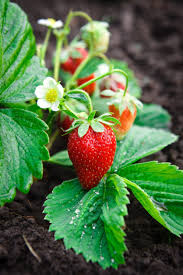Fresa: (65, 114, 118, 196)
